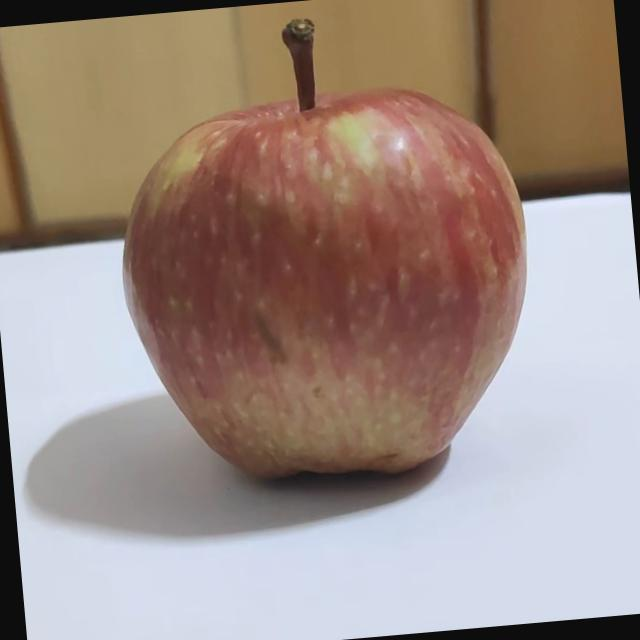apple: (98, 0, 548, 496)
